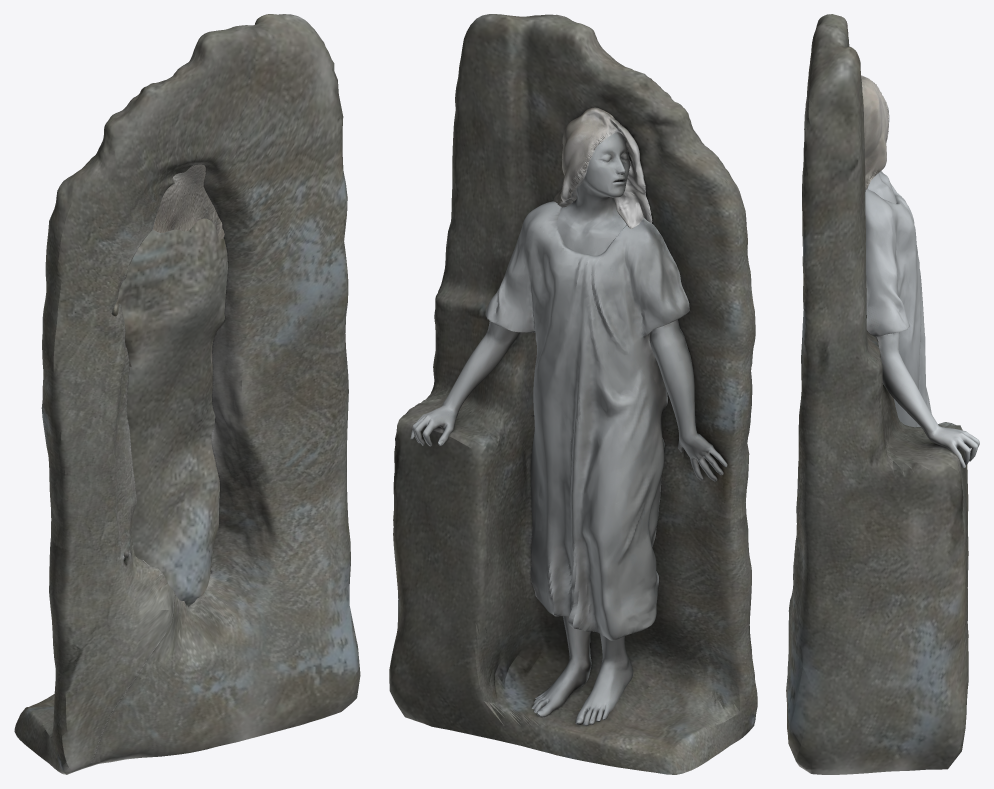
The model's file is kristlanna.glb.
3 renders of one model, left to right at view 1: azimuth 30°, elevation 25°; view 2: azimuth 150°, elevation 25°; view 3: azimuth 270°, elevation 25°, orthographic. The views are drawn at different scales.
Parts seen in each view (by area): view 1: Mesh (2), Mesh; view 2: Mesh (2), Mesh; view 3: Mesh (2), Mesh.
Boxes of the visible parts, box(x1,y1,x2,y2) form: Mesh (2): box(14, 14, 360, 774); Mesh: box(112, 164, 227, 605); Mesh (2): box(389, 14, 757, 774); Mesh: box(410, 107, 727, 725); Mesh (2): box(786, 14, 968, 774); Mesh: box(861, 75, 979, 467).
Bounding box in the file's own units: 0.3253 × 0.6995 × 0.1765.
Materials: 4 (4 with a texture image).
